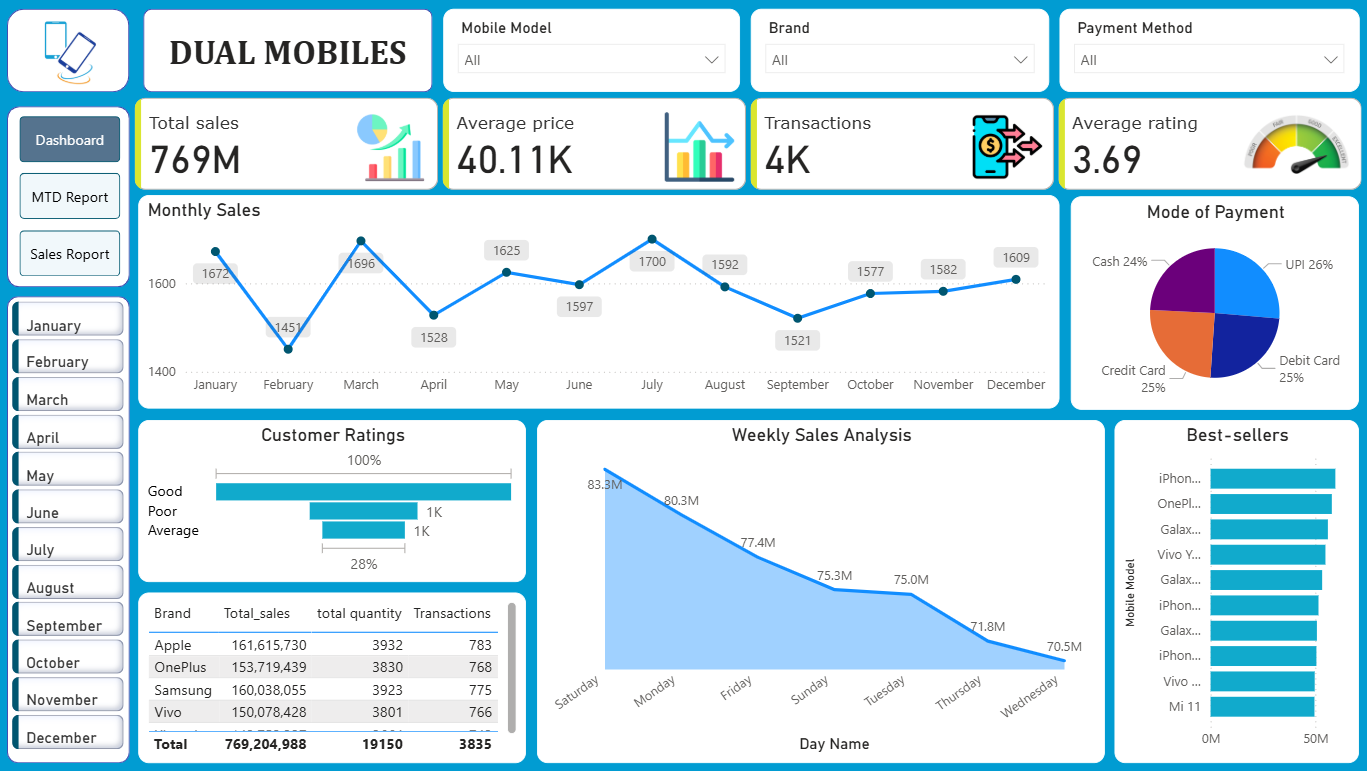

This screenshot's page, from the dashboard's own definition file:
{"tool":"powerbi","page":{"name":"Dashboard","canvas":[1280,720],"ordinal":0},"visuals":[{"type":"shape","box":[9.7,8.3,114.1,77.9],"z":0},{"type":"image","box":[0,0,136.3,98.8],"z":1000},{"type":"shape","box":[9.7,98.9,114.6,168.9],"z":2000},{"type":"shape","box":[9.7,276.3,114.6,435.5],"z":3000},{"type":"advancedSlicerVisual","fields":{"Values":["calender.Date.Variation.Date Hierarchy.Month"]},"box":[9.7,276.3,114.6,435.5],"z":4000},{"type":"cardVisual","fields":{"Data":["sales_data.Total_sales","sales_data.Avg_price","sales_data.Transactions","sales_data.Avg_rating"]},"box":[123.8,86.3,1156.2,96],"z":5000},{"type":"slicer","fields":{"Values":["sales_data.Mobile Model"]},"box":[416,8.3,276.9,77.9],"z":6000},{"type":"slicer","fields":{"Values":["sales_data.Brand"]},"box":[702.6,8.3,278.3,77.9],"z":7000},{"type":"slicer","fields":{"Values":["sales_data.Payment Method"]},"box":[990.6,8.3,279.7,77.9],"z":8000},{"type":"shape","box":[136.3,8.3,269.9,77.9],"z":9000},{"type":"textbox","box":[147.2,24.1,248.5,51.9],"z":10000},{"type":"lineChart","title":"Monthly Sales","fields":{"Category":["calender.Date.Variation.Date Hierarchy.Month"],"Y":["sales_data.total quantity"]},"box":[131.5,182.2,859,199.1],"z":12000},{"type":"funnel","title":"Customer Ratings","fields":{"Y":["CountNonNull(sales_data.Customer Ratings)"],"Category":["sales_data.Rating"]},"box":[131.5,392.1,361.9,150.8],"z":13000},{"type":"pieChart","title":"Mode of Payment","fields":{"Y":["sales_data.Transactions"],"Category":["sales_data.Payment Method"]},"box":[1001.3,183.4,269,199.1],"z":14000},{"type":"clusteredBarChart","title":"Best-sellers","fields":{"Y":["sales_data.Total_sales"],"Category":["sales_data.Mobile Model"]},"box":[1042.4,392.1,228,319.7],"z":15000},{"type":"areaChart","title":"Weekly Sales Analysis","fields":{"Y":["sales_data.Total_sales"],"Category":["calender.Day Name"]},"box":[503.1,392.1,529.6,319.7],"z":16000},{"type":"tableEx","fields":{"Values":["sales_data.Brand","sales_data.Total_sales","sales_data.total quantity","sales_data.Transactions"]},"box":[131.5,552.5,361.9,159.3],"z":17000},{"type":"pageNavigator","box":[20.5,108.6,94.1,149.6],"z":17001}]}

Visuals, with their boxes in screenshot pixels (x1, y1, x2, y2), scaled from the page's 1280x720 canvas onto the 1367x771 screenshot:
shape: {"left": 10, "top": 9, "right": 132, "bottom": 92}
image: {"left": 0, "top": 0, "right": 146, "bottom": 106}
shape: {"left": 10, "top": 106, "right": 133, "bottom": 287}
shape: {"left": 10, "top": 296, "right": 133, "bottom": 762}
advancedSlicerVisual - calender.Date.Variation.Date Hierarchy.Month: {"left": 10, "top": 296, "right": 133, "bottom": 762}
cardVisual - sales_data.Total_sales x sales_data.Avg_price: {"left": 132, "top": 92, "right": 1366, "bottom": 195}
slicer - sales_data.Mobile Model: {"left": 444, "top": 9, "right": 740, "bottom": 92}
slicer - sales_data.Brand: {"left": 750, "top": 9, "right": 1048, "bottom": 92}
slicer - sales_data.Payment Method: {"left": 1058, "top": 9, "right": 1357, "bottom": 92}
shape: {"left": 146, "top": 9, "right": 434, "bottom": 92}
textbox: {"left": 157, "top": 26, "right": 423, "bottom": 81}
"Monthly Sales" lineChart: {"left": 140, "top": 195, "right": 1058, "bottom": 408}
"Customer Ratings" funnel: {"left": 140, "top": 420, "right": 527, "bottom": 581}
"Mode of Payment" pieChart: {"left": 1069, "top": 196, "right": 1357, "bottom": 410}
"Best-sellers" clusteredBarChart: {"left": 1113, "top": 420, "right": 1357, "bottom": 762}
"Weekly Sales Analysis" areaChart: {"left": 537, "top": 420, "right": 1103, "bottom": 762}
tableEx - sales_data.Brand x sales_data.Total_sales: {"left": 140, "top": 592, "right": 527, "bottom": 762}
pageNavigator: {"left": 22, "top": 116, "right": 122, "bottom": 276}
